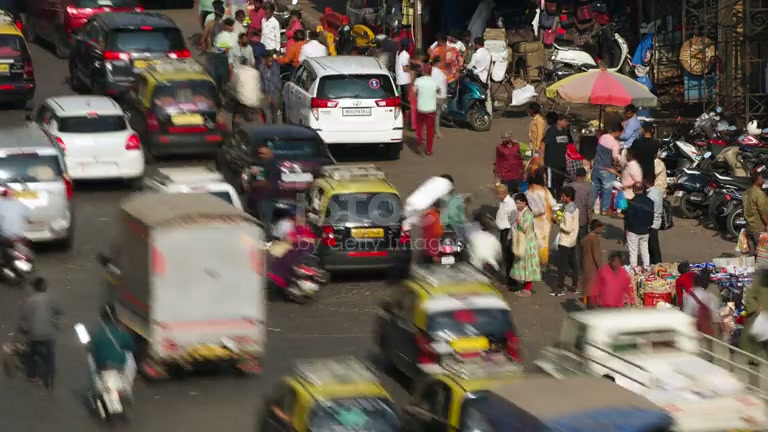car: (281, 54, 404, 159), (304, 164, 413, 280), (457, 377, 676, 431), (214, 123, 339, 214), (67, 10, 192, 99), (28, 94, 146, 187), (261, 354, 403, 431), (120, 58, 224, 162), (0, 145, 76, 250), (0, 27, 36, 108)
motorcycle: (402, 175, 473, 265), (266, 241, 329, 303), (437, 70, 492, 131), (708, 185, 746, 241), (0, 235, 35, 286)
pedestrian: (15, 277, 64, 391), (524, 166, 558, 279), (410, 61, 447, 156), (508, 193, 542, 294), (550, 187, 580, 295), (622, 182, 655, 271), (587, 251, 637, 309), (741, 167, 768, 257), (493, 131, 528, 196), (494, 185, 517, 283)
truck: (95, 186, 270, 380)
